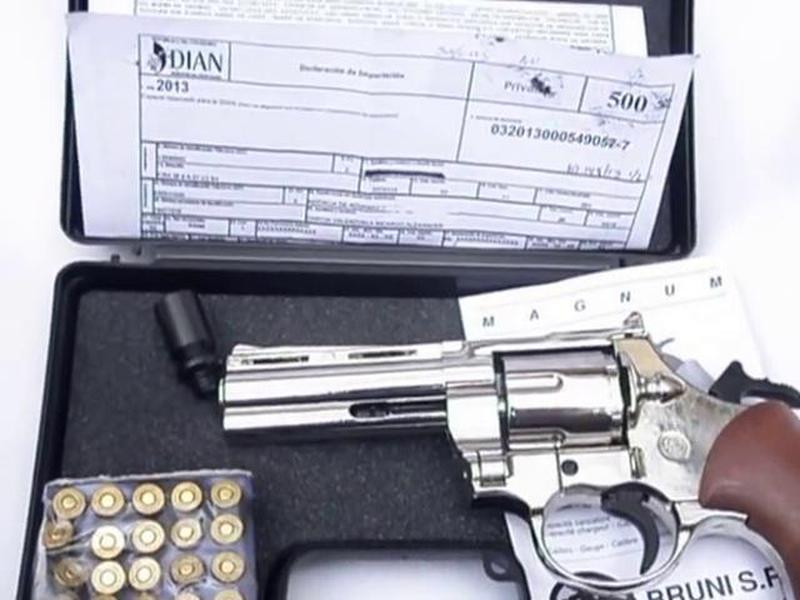Revolver: (216, 318, 800, 586)
